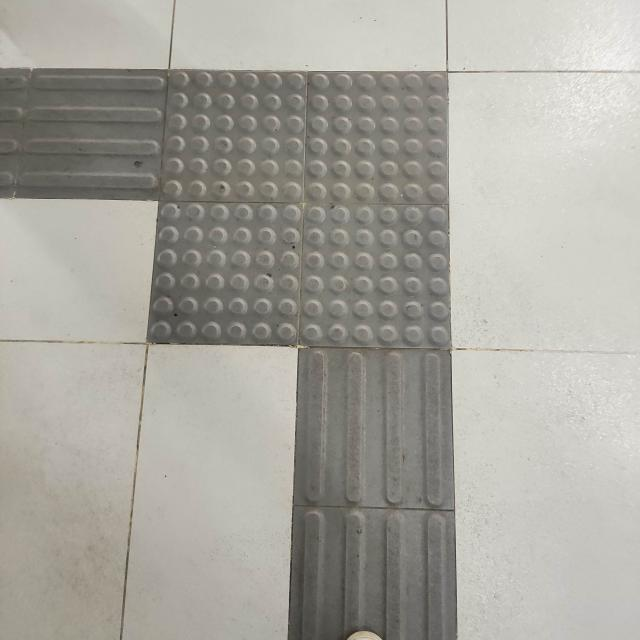kiri: (0, 15, 483, 421)
